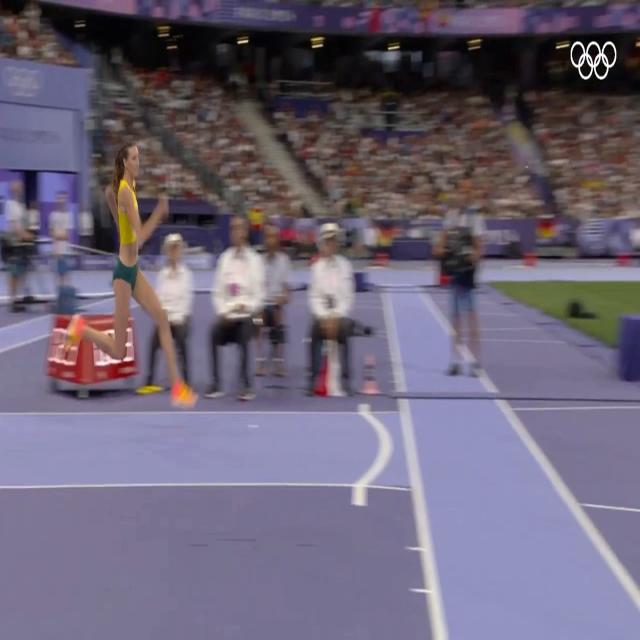run: (68, 143, 198, 400)
